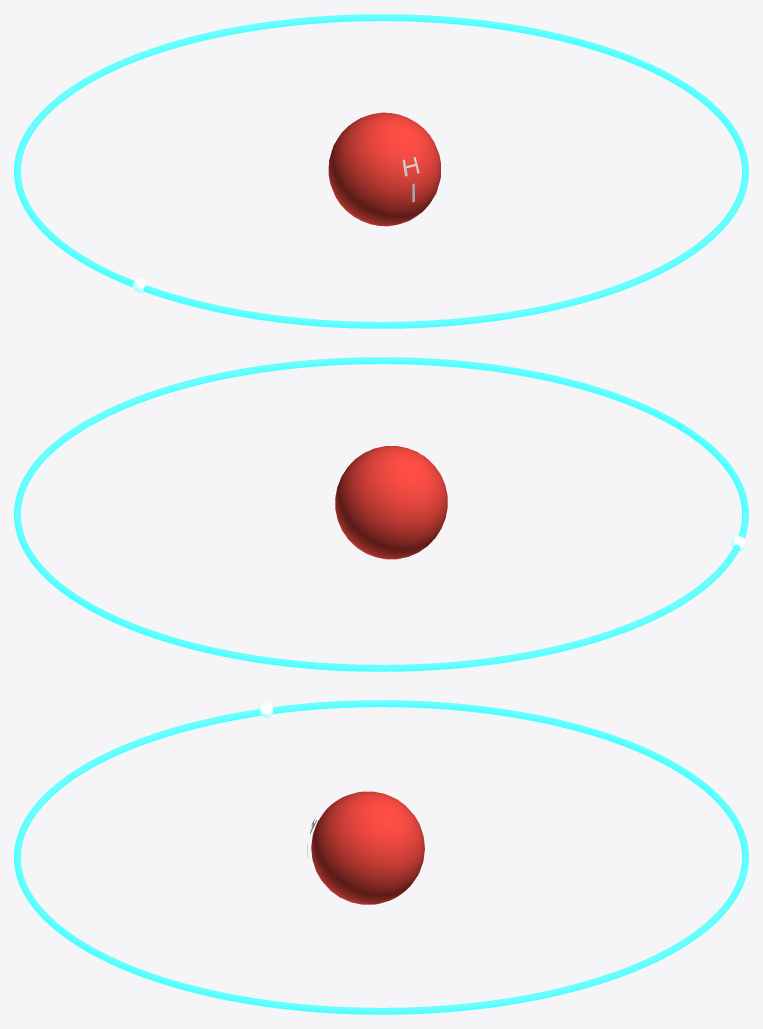
The model's file is Hydrogen.fbx.
The picture shows the model from 3 angles, top to bottom: view 1: azimuth 30°, elevation 25°; view 2: azimuth 150°, elevation 25°; view 3: azimuth 270°, elevation 25°; orthographic projection.
Parts seen in each view (by area): view 1: BézierCircle, Sphere.056; view 2: BézierCircle, Sphere.056; view 3: BézierCircle, Sphere.056.
Part boxes in pixels (left/top/right/bottom): BézierCircle: left=14, top=14, right=748, bottom=328; Sphere.056: left=328, top=112, right=440, bottom=226; BézierCircle: left=14, top=357, right=748, bottom=671; Sphere.056: left=335, top=446, right=447, bottom=559; BézierCircle: left=14, top=700, right=748, bottom=1014; Sphere.056: left=311, top=791, right=424, bottom=904.
Size of the model in its own units: 153 by 23.76 by 153.
